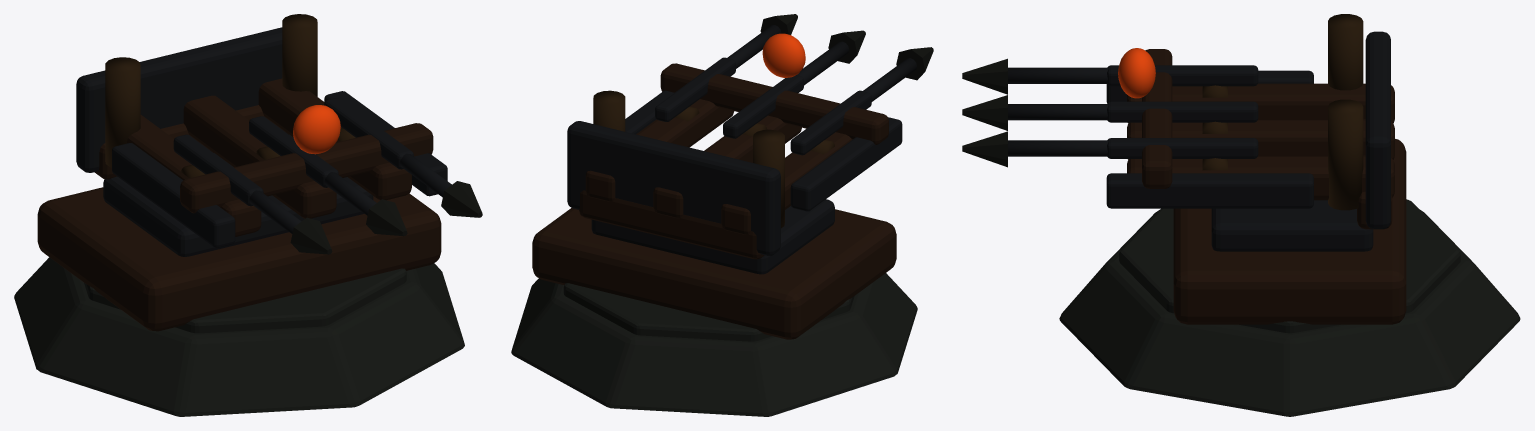
The model's file is TowerMulti3_pose.obj.
3 views of the same model, side by side, from view 1: azimuth 30°, elevation 25°; view 2: azimuth 150°, elevation 25°; view 3: azimuth 270°, elevation 25° (orthographic). The views are drawn at different scales.
Visible parts, largest first — view 1: rough_stone_plinth_lower_course, oak_firing_deck, iron_volley_shield, rough_stone_plinth_upper_course, volley_bow_stock.001, iron_turntable, extra_bow_brace, volley_bow_stock.002, apex_bolt_rack, apex_bolt_rack.001, volley_bow_limb, volley_bow_stock (+14 smaller); view 2: rough_stone_plinth_lower_course, oak_firing_deck, iron_volley_shield, rough_stone_plinth_upper_course, iron_turntable, oak_windlass_rail, extra_bow_brace, volley_bow_stock.002, volley_bow_stock.001, volley_bow_stock, volley_bow_limb, volley_bow_limb.001 (+14 smaller); view 3: rough_stone_plinth_lower_course, oak_firing_deck, rough_stone_plinth_upper_course, extra_bow_brace.001, iron_turntable, iron_volley_shield, volley_bow_stock, volley_bow_stock.001, apex_bolt_rack.001, volley_bow_stock.002, volley_iron_guide.001, volley_iron_guide.002 (+13 smaller).
Boxes of the visible parts, box(x1,y1,x2,y2) form: rough_stone_plinth_lower_course: box(14, 257, 464, 416); oak_firing_deck: box(37, 187, 441, 331); iron_volley_shield: box(76, 27, 282, 172); rough_stone_plinth_upper_course: box(84, 268, 406, 333); volley_bow_stock.001: box(183, 95, 336, 218); iron_turntable: box(103, 134, 373, 256); extra_bow_brace: box(112, 143, 235, 247); volley_bow_stock.002: box(258, 78, 411, 200); apex_bolt_rack: box(105, 57, 140, 167); apex_bolt_rack.001: box(282, 14, 317, 96); volley_bow_limb: box(180, 160, 278, 213); volley_bow_stock: box(127, 115, 261, 236); rough_stone_plinth_lower_course: box(511, 273, 917, 416); oak_firing_deck: box(532, 208, 896, 339); iron_volley_shield: box(567, 121, 780, 255); rough_stone_plinth_upper_course: box(563, 283, 854, 341); iron_turntable: box(591, 199, 834, 274); oak_windlass_rail: box(579, 190, 764, 259); extra_bow_brace: box(790, 117, 902, 211); volley_bow_stock.002: box(585, 99, 734, 201); volley_bow_stock.001: box(653, 115, 801, 218); volley_bow_stock: box(721, 132, 852, 234); volley_bow_limb: box(802, 96, 888, 144); volley_bow_limb.001: box(732, 80, 814, 128); rough_stone_plinth_lower_course: box(1059, 210, 1520, 416); oak_firing_deck: box(1173, 139, 1406, 324); rough_stone_plinth_upper_course: box(1119, 199, 1460, 333); extra_bow_brace.001: box(1106, 173, 1313, 208); iron_turntable: box(1211, 200, 1373, 251); iron_volley_shield: box(1365, 31, 1390, 229); volley_bow_stock: box(1127, 83, 1394, 123); volley_bow_stock.001: box(1127, 120, 1394, 159); apex_bolt_rack.001: box(1328, 99, 1363, 210); volley_bow_stock.002: box(1127, 156, 1394, 200); volley_iron_guide.001: box(1107, 101, 1258, 122); volley_iron_guide.002: box(1107, 138, 1258, 158).
Bounding box in the file's own units: 1.82 × 1.18 × 2.21.
